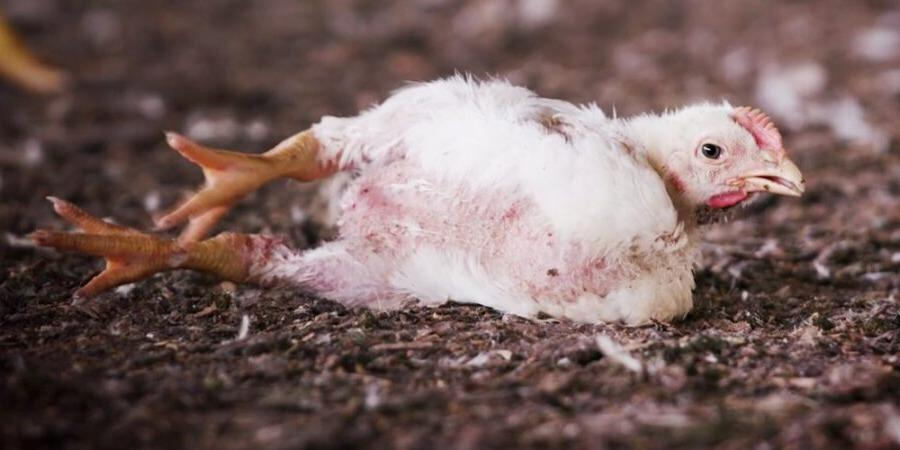AbNormal: (29, 51, 864, 318)
